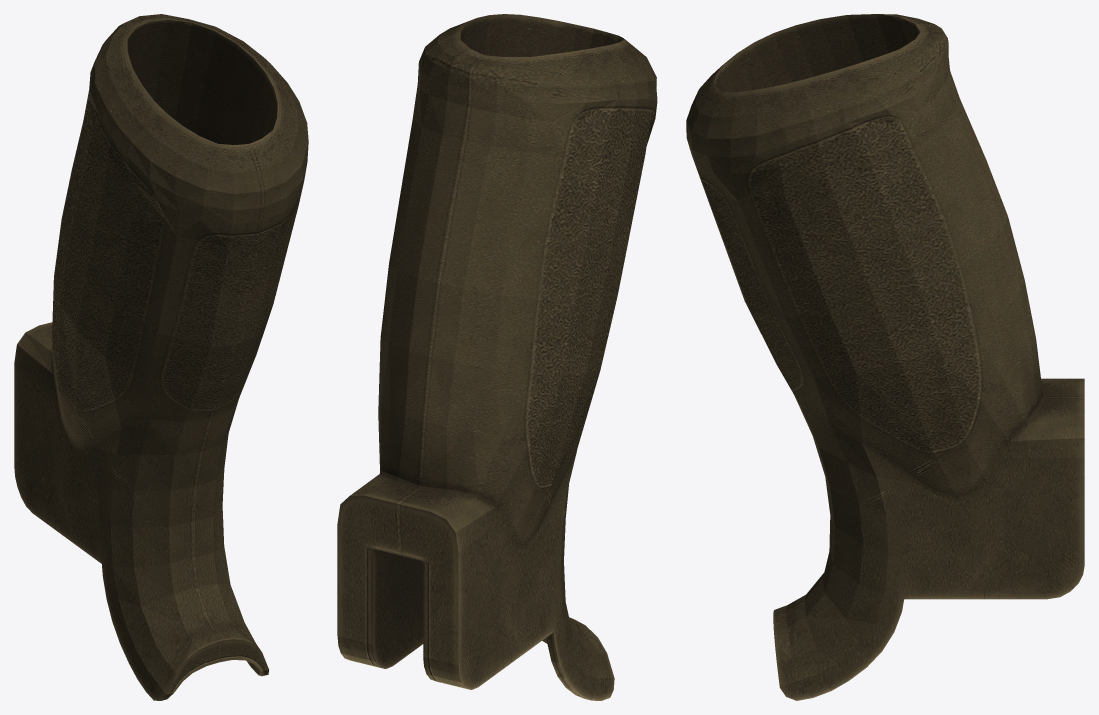
The picture shows the model from 3 angles, left to right: view 1: azimuth 30°, elevation 25°; view 2: azimuth 150°, elevation 25°; view 3: azimuth 270°, elevation 25°; orthographic projection. The views are drawn at different scales.
Parts seen in each view (by area): view 1: TW_5c6d7b3d2e221600114c9b7d_PZ_Import; view 2: TW_5c6d7b3d2e221600114c9b7d_PZ_Import; view 3: TW_5c6d7b3d2e221600114c9b7d_PZ_Import.
Boxes of the visible parts, left/top/right/bottom form: TW_5c6d7b3d2e221600114c9b7d_PZ_Import: left=14, top=14, right=308, bottom=700; TW_5c6d7b3d2e221600114c9b7d_PZ_Import: left=337, top=14, right=657, bottom=700; TW_5c6d7b3d2e221600114c9b7d_PZ_Import: left=686, top=14, right=1084, bottom=700.
Bounding box in the file's own units: 0.0217 × 0.0406 × 0.0721.
1 material, 1 textured.
